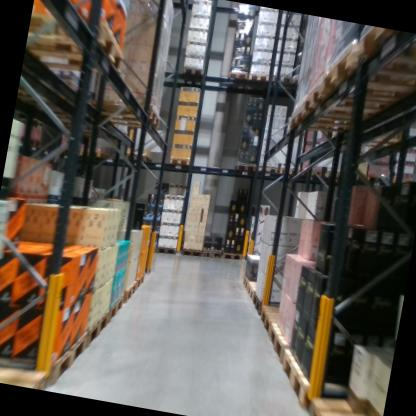pallet: (23, 1, 140, 84), (315, 33, 416, 114), (274, 345, 374, 416), (0, 316, 88, 388), (302, 79, 393, 136), (287, 100, 379, 148), (79, 87, 169, 132), (354, 26, 416, 67), (304, 387, 384, 416), (263, 320, 300, 371), (77, 307, 111, 356), (254, 300, 291, 343), (0, 362, 53, 389), (119, 144, 158, 169), (102, 287, 126, 326), (267, 67, 295, 99), (179, 62, 209, 90), (80, 142, 112, 168), (114, 276, 136, 309), (223, 66, 248, 95), (247, 287, 269, 319), (163, 147, 192, 171), (334, 167, 367, 187), (220, 241, 247, 265), (276, 162, 302, 184), (198, 240, 223, 261), (298, 164, 324, 184), (243, 278, 263, 303), (247, 68, 271, 88), (128, 270, 146, 296), (231, 159, 256, 177), (178, 241, 203, 259), (254, 159, 279, 176), (364, 172, 390, 188), (156, 241, 178, 259), (241, 270, 250, 290)
